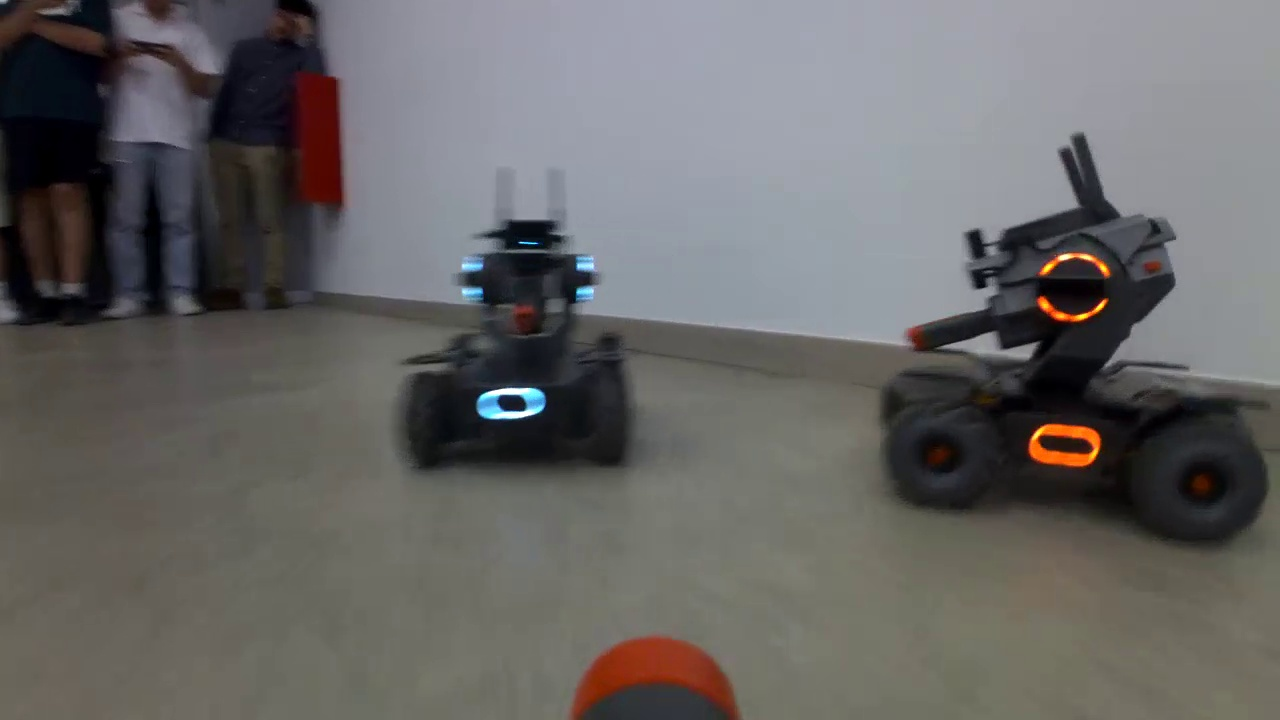robot: (880, 210, 1260, 535), (388, 215, 655, 472)
